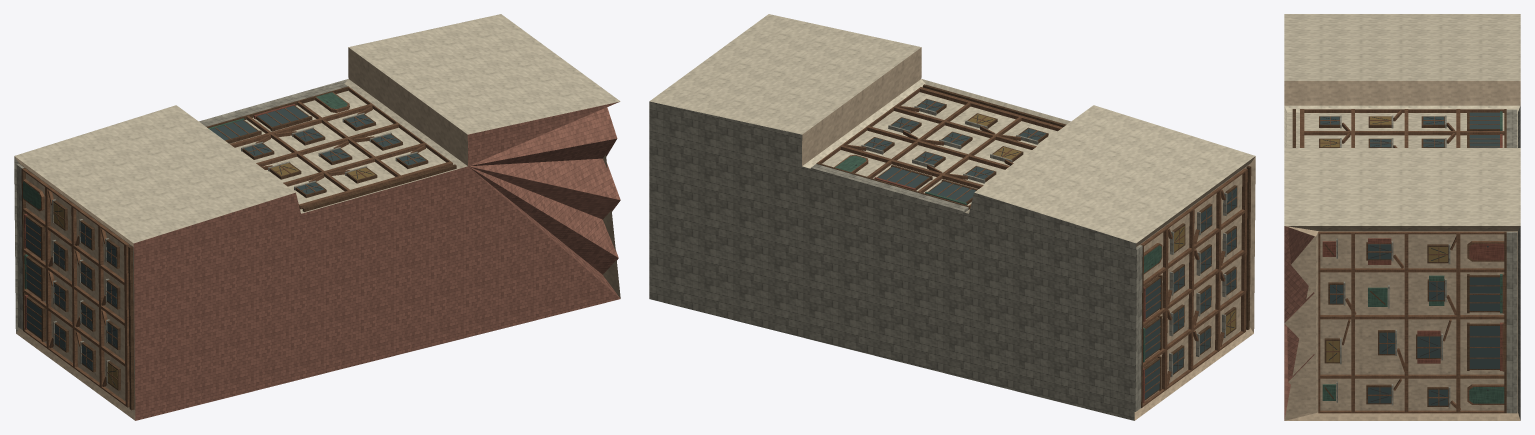
The model's file is SM_GLMedieval_SpawnCorner_Review.obj.
The picture shows the model from 3 angles, left to right: view 1: azimuth 30°, elevation 25°; view 2: azimuth 150°, elevation 25°; view 3: azimuth 270°, elevation 25°; orthographic projection.
Parts seen in each view (by area): view 1: Structure, Edge_05_001, Edge_05_007, Edge_05_004, Edge_02_007, Edge_05_003, Edge_05_005, Edge_02_001, Edge_05_006, Edge_02_004, Edge_02_006, Edge_02_003 (+7 smaller); view 2: Structure, Edge_05_001, Edge_02_001, Edge_05_006, Edge_05_003, Edge_05_004, Edge_05_005, Edge_02_006, Edge_02_003, Edge_02_005, Edge_02_004, Edge_05_007 (+7 smaller); view 3: Structure, Edge_07_001, Edge_07_035, Edge_07_072, Edge_07_003, Edge_07_004, Edge_02_010, Edge_07_008, Edge_07_009, Edge_07_010, Edge_02_011, Edge_07_005 (+19 smaller).
Part boxes in pixels (x1,y1,x2,y2): Structure: [14, 14, 620, 420]; Edge_05_001: [16, 164, 24, 330]; Edge_05_007: [128, 246, 134, 410]; Edge_05_004: [71, 204, 77, 368]; Edge_02_007: [302, 164, 456, 211]; Edge_05_003: [45, 185, 51, 349]; Edge_05_005: [98, 224, 104, 388]; Edge_02_001: [201, 83, 347, 126]; Edge_05_006: [124, 243, 129, 407]; Edge_02_004: [256, 123, 399, 166]; Edge_02_006: [299, 161, 452, 209]; Edge_02_003: [230, 103, 373, 147]; Structure: [649, 14, 1255, 420]; Edge_05_001: [1134, 245, 1142, 411]; Edge_02_001: [810, 164, 968, 212]; Edge_05_006: [1241, 168, 1247, 332]; Edge_05_003: [1162, 226, 1168, 390]; Edge_05_004: [1188, 207, 1194, 371]; Edge_05_005: [1215, 187, 1221, 351]; Edge_02_006: [919, 87, 1062, 131]; Edge_02_003: [840, 145, 983, 188]; Edge_02_005: [893, 106, 1036, 149]; Edge_02_004: [866, 126, 1009, 169]; Edge_05_007: [1246, 165, 1251, 329]; Structure: [1284, 14, 1520, 420]; Edge_07_001: [1506, 231, 1517, 413]; Edge_07_035: [1469, 326, 1499, 368]; Edge_07_072: [1469, 277, 1499, 310]; Edge_07_003: [1456, 231, 1460, 413]; Edge_07_004: [1404, 231, 1408, 413]; Edge_02_010: [1304, 131, 1504, 135]; Edge_07_008: [1320, 374, 1504, 378]; Edge_07_009: [1320, 315, 1504, 319]; Edge_07_010: [1320, 268, 1504, 272]; Edge_02_011: [1304, 109, 1504, 112]; Edge_07_005: [1351, 231, 1354, 413].
Size of the model in its own units: 34.82 by 14.02 by 14.8.
Materials: 11 (8 with a texture image).
